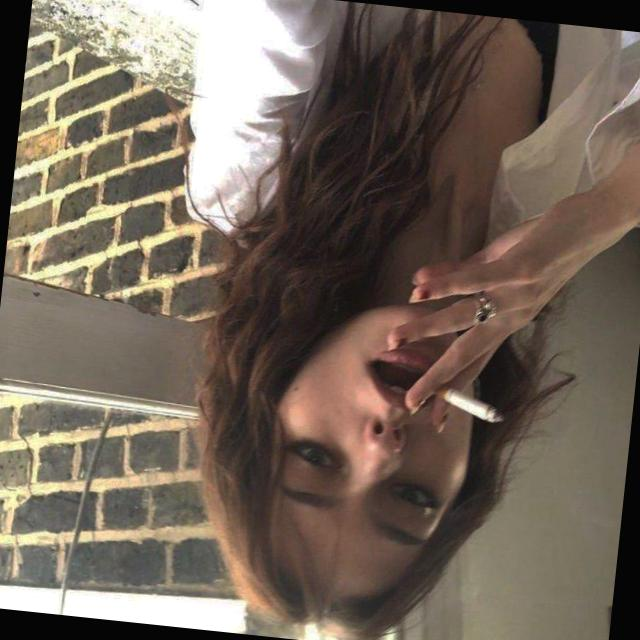cigarette: (422, 381, 512, 435)
